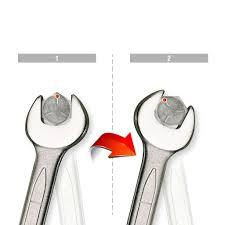wrench: (15, 91, 89, 224), (123, 88, 195, 224)
